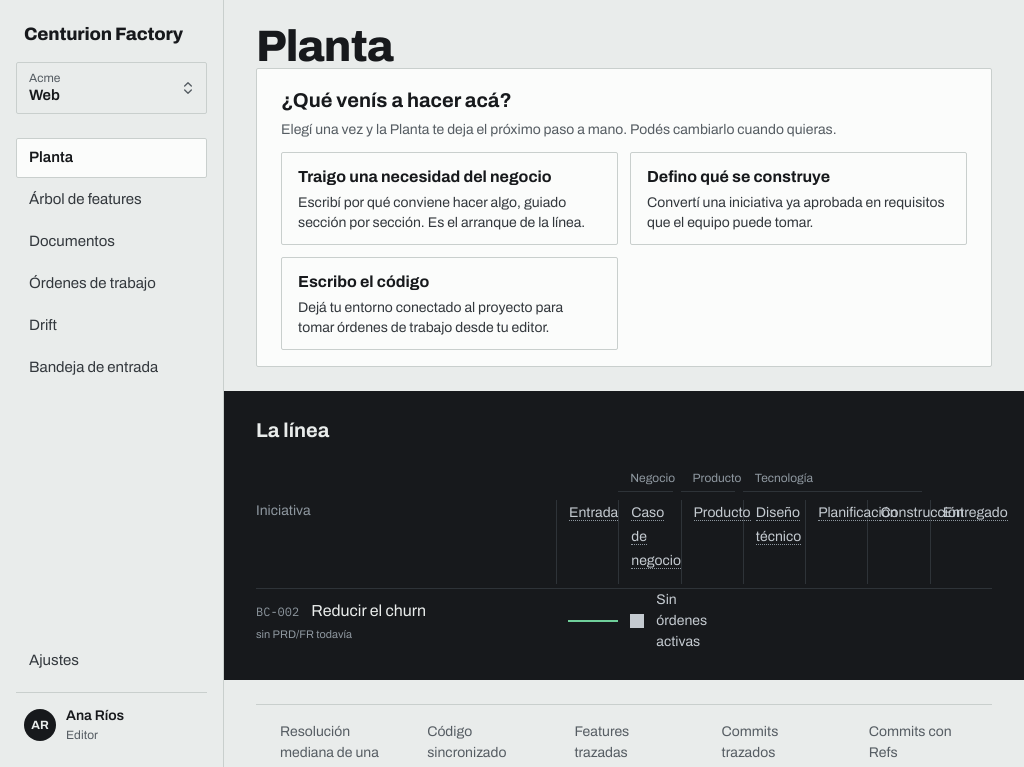
it: ProfileBand — nothing chosen yet (WO-547, SDD-051) › choosing one saves it and the band becomes that profile's next step, with a way out to build
What coordinates should you click on to do the following:
click the button "Defino qué se construye"
I would click on:
 (798, 199)
Its box is top-left (630, 152), bottom-right (967, 245).
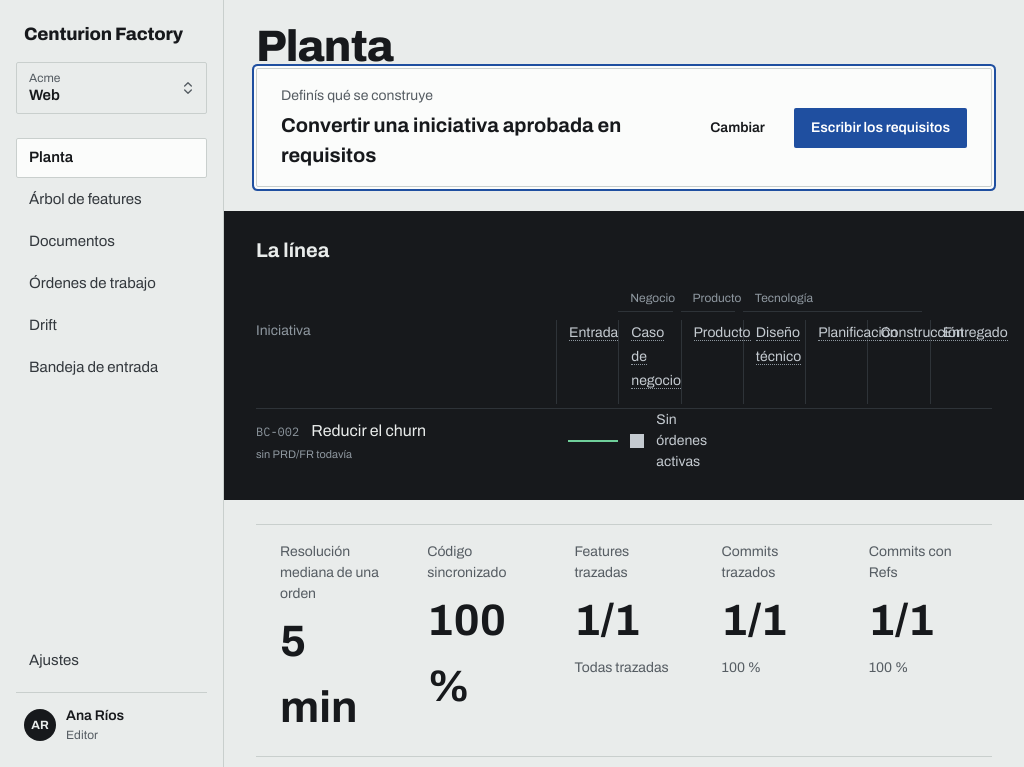
Expected: the text "Convertir una iniciativa aprobada en requisitos" is shown, top-left (281, 110), bottom-right (673, 170)
Expected: the heading "¿Qué venís a hacer acá?" is gone
